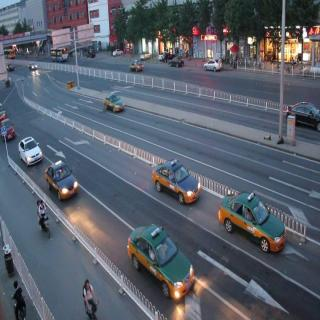Car: (213, 180, 292, 268), (126, 218, 195, 308), (147, 148, 205, 212), (43, 154, 86, 212), (287, 91, 320, 137), (103, 91, 128, 121)
